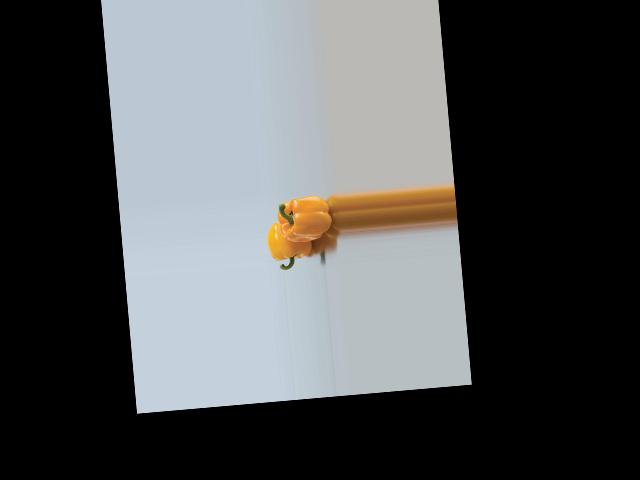bell_pepper: (265, 217, 321, 270)
